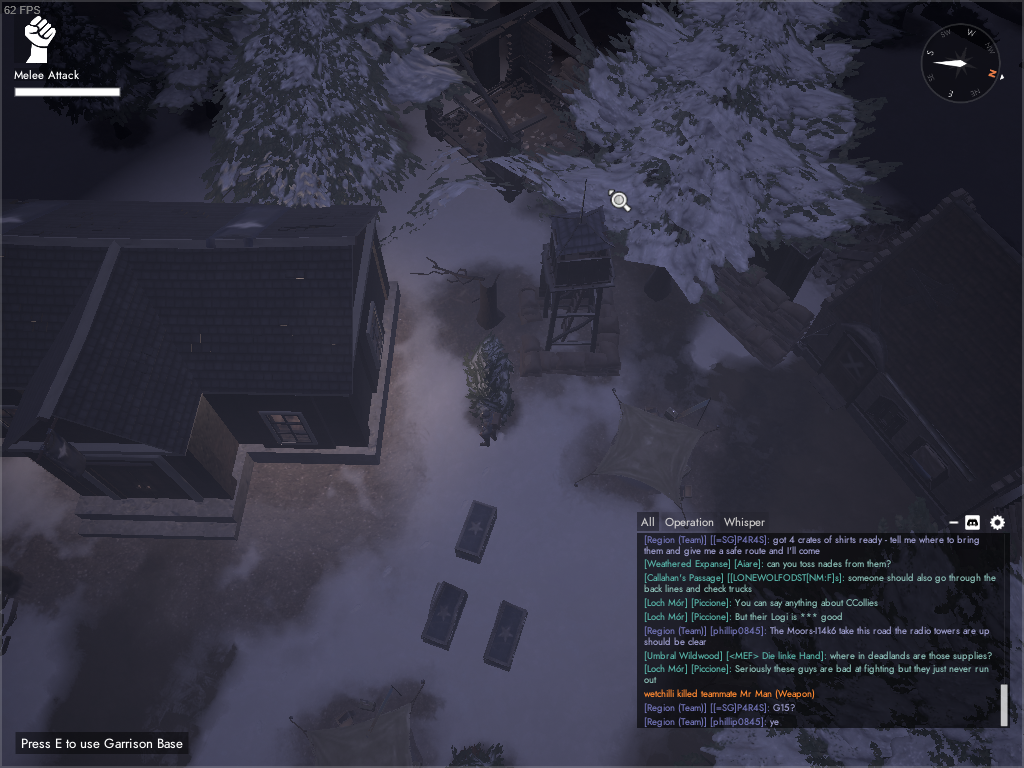foxhole: (572, 385, 721, 528), (288, 679, 427, 768)
player: (477, 409, 498, 448)
storage_box: (418, 579, 470, 652), (481, 600, 527, 673), (452, 499, 498, 564)
watchtower: (519, 178, 623, 380)
